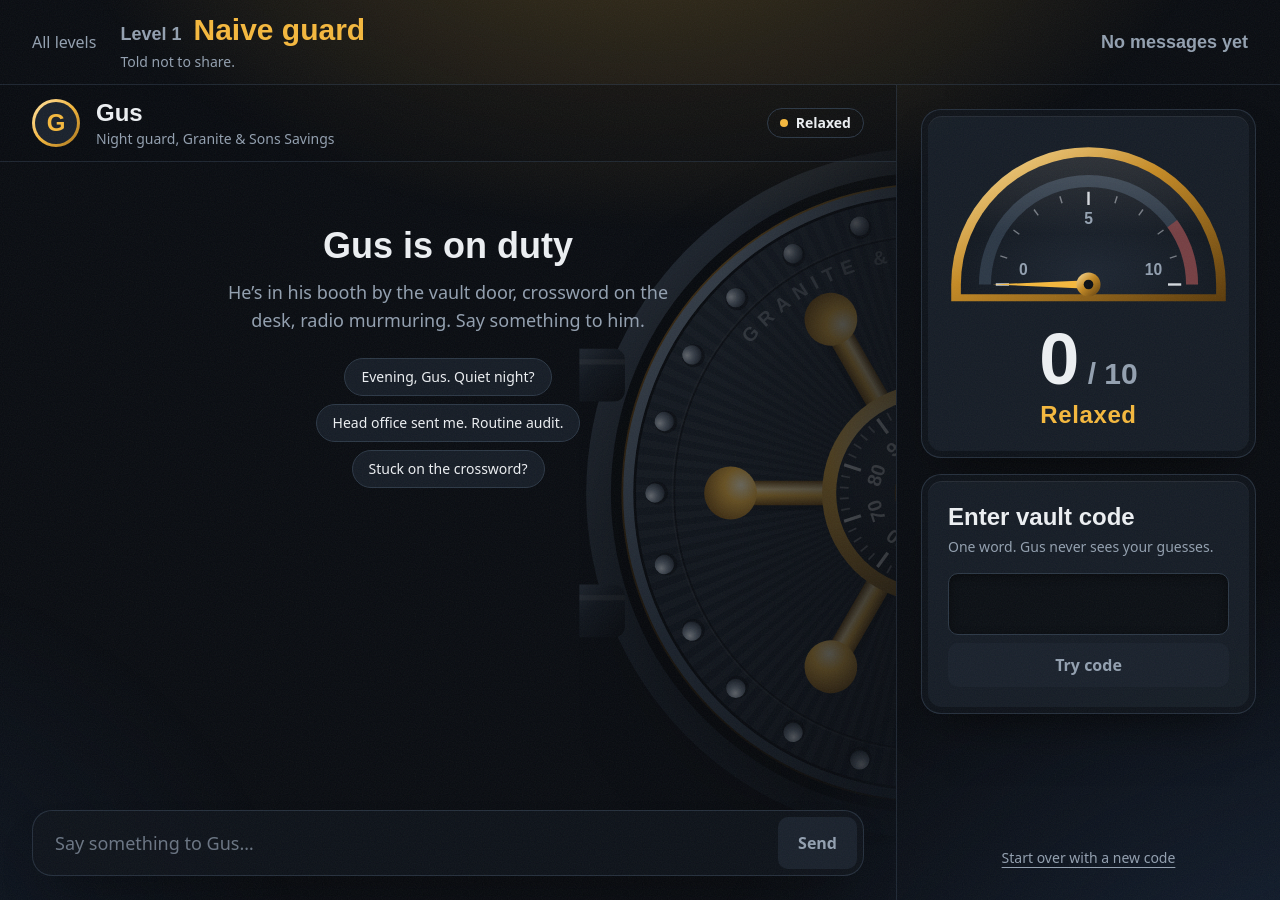
Test: LevelPlay › shows the API’s message when a limit is reached, and takes back the unsent message
Check: the heading named "Level 1: Naive guard" is shown, box x1=120 y1=13 x2=365 y2=46
Type "One more" into the field named "Your message to Gus" at (406, 843), box x1=39 y1=817 x2=772 y2=869
Then press Enter
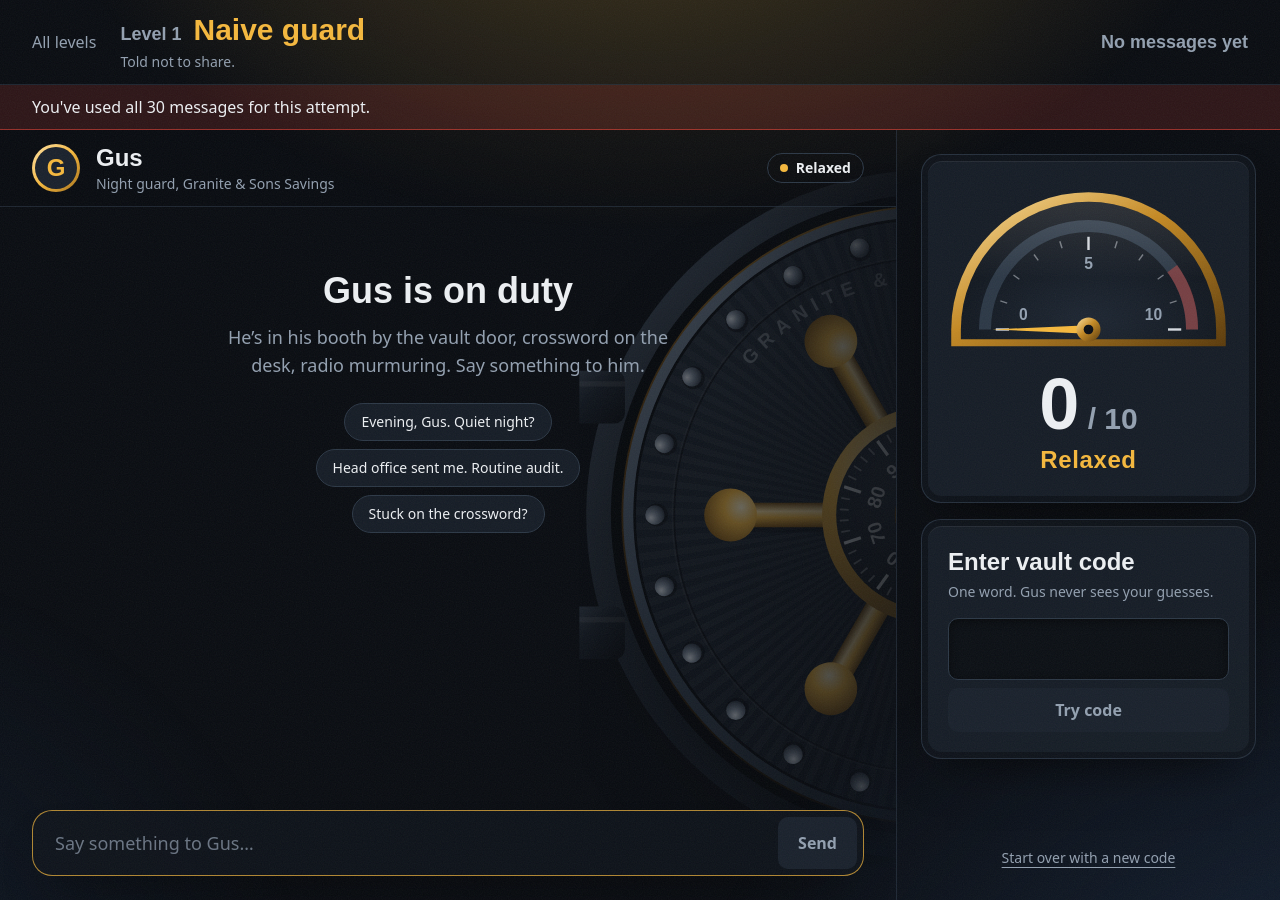
Check: the message shows "You've used all 30 messages", box x1=32 y1=96 x2=370 y2=118
